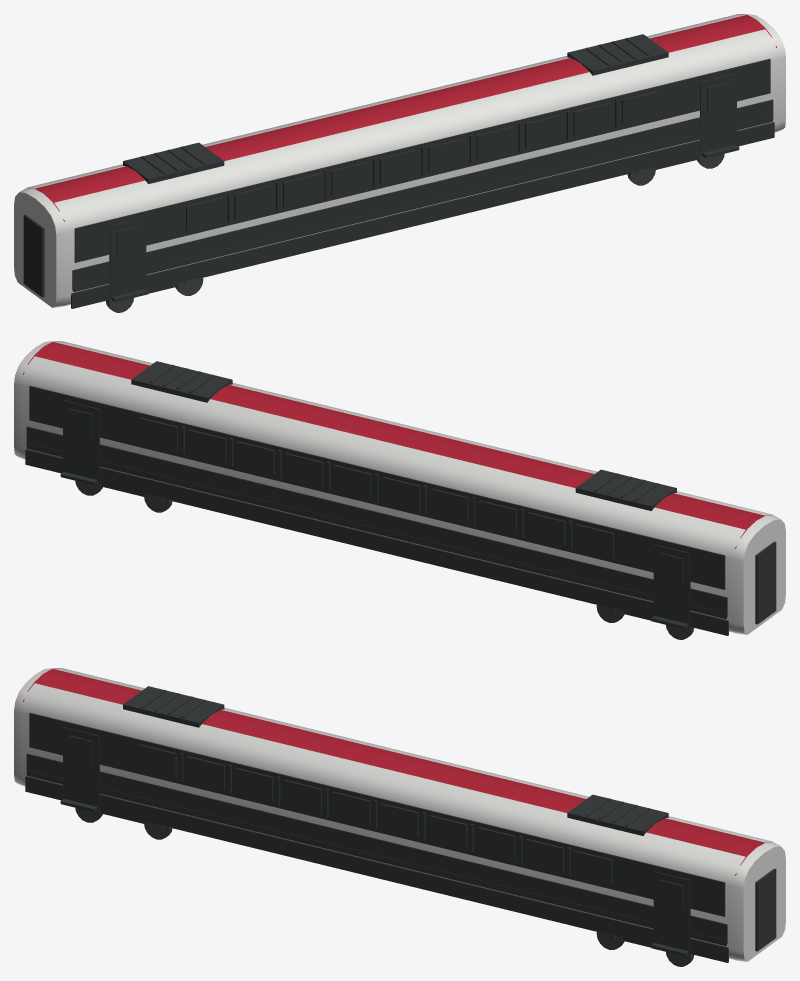
File: railjet-nextgen-economy-b.glb
The picture shows the model from 3 angles, top to bottom: view 1: azimuth 30°, elevation 25°; view 2: azimuth 150°, elevation 25°; view 3: azimuth 330°, elevation 25°; orthographic projection.
Visible parts, largest first — view 1: economy_b_lofted_body, economy_b_black_window_ribbon_-1, economy_b_red_roof, economy_b_silver_flank_-1, economy_b_dark_skirt_-1, economy_b_red_sill_-1, economy_b_wide_door_-1_1, economy_b_wide_door_-1_0, economy_b_hvac_1, economy_b_hvac_0, gangway_1.004, economy_b_window_-1_3 (+14 smaller); view 2: economy_b_lofted_body, economy_b_black_window_ribbon_1, economy_b_red_roof, economy_b_silver_flank_1, economy_b_dark_skirt_1, economy_b_red_sill_1, economy_b_wide_door_1_1, economy_b_wide_door_1_0, economy_b_hvac_1, economy_b_hvac_0, gangway_1.004, economy_b_window_1_3 (+14 smaller); view 3: economy_b_lofted_body, economy_b_black_window_ribbon_-1, economy_b_red_roof, economy_b_silver_flank_-1, economy_b_dark_skirt_-1, economy_b_red_sill_-1, economy_b_wide_door_-1_0, economy_b_wide_door_-1_1, economy_b_hvac_0, economy_b_hvac_1, gangway_0.004, economy_b_window_-1_2 (+14 smaller).
Boxes of the visible parts, box(x1,y1,x2,y2) form: economy_b_lofted_body: box(14, 14, 785, 307); economy_b_black_window_ribbon_-1: box(74, 59, 770, 262); economy_b_red_roof: box(28, 14, 776, 221); economy_b_silver_flank_-1: box(72, 99, 773, 290); economy_b_dark_skirt_-1: box(71, 122, 774, 308); economy_b_red_sill_-1: box(73, 116, 772, 292); economy_b_wide_door_-1_1: box(700, 73, 736, 153); economy_b_wide_door_-1_0: box(109, 217, 146, 297); economy_b_hvac_1: box(567, 34, 668, 75); economy_b_hvac_0: box(123, 142, 224, 183); gangway_1.004: box(23, 214, 44, 297); economy_b_window_-1_3: box(331, 161, 369, 195); economy_b_lofted_body: box(14, 341, 785, 634); economy_b_black_window_ribbon_1: box(29, 386, 725, 589); economy_b_red_roof: box(23, 341, 771, 548); economy_b_silver_flank_1: box(26, 426, 727, 617); economy_b_dark_skirt_1: box(25, 449, 728, 635); economy_b_red_sill_1: box(27, 443, 726, 619); economy_b_wide_door_1_1: box(63, 400, 99, 480); economy_b_wide_door_1_0: box(653, 544, 690, 624); economy_b_hvac_1: box(131, 361, 232, 402); economy_b_hvac_0: box(575, 469, 676, 510); gangway_1.004: box(755, 541, 776, 624); economy_b_window_1_3: box(430, 488, 468, 522); economy_b_lofted_body: box(14, 668, 785, 961); economy_b_black_window_ribbon_-1: box(29, 713, 725, 916); economy_b_red_roof: box(23, 668, 771, 875); economy_b_silver_flank_-1: box(26, 753, 727, 944); economy_b_dark_skirt_-1: box(25, 776, 728, 962); economy_b_red_sill_-1: box(27, 770, 726, 946); economy_b_wide_door_-1_0: box(63, 727, 99, 807); economy_b_wide_door_-1_1: box(653, 871, 690, 951); economy_b_hvac_0: box(123, 686, 224, 727); economy_b_hvac_1: box(567, 794, 668, 835); gangway_0.004: box(755, 868, 776, 951); economy_b_window_-1_2: box(235, 768, 273, 801).
Bounding box in the file's own units: 26.6 × 4.29 × 3.42.
